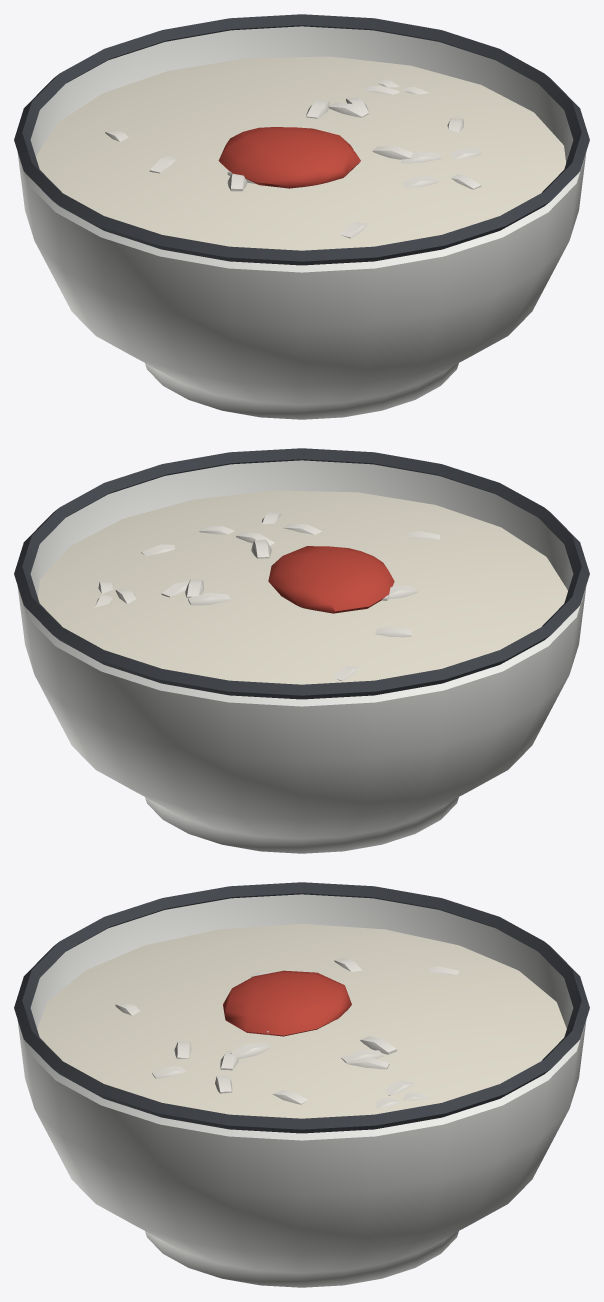
File: cook_rice_pudding.glb
The picture shows the model from 3 angles, top to bottom: view 1: azimuth 30°, elevation 25°; view 2: azimuth 150°, elevation 25°; view 3: azimuth 270°, elevation 25°; orthographic projection.
Parts seen in each view (by area): view 1: body; view 2: body; view 3: body.
Part boxes in pixels (box(x1,y1,x2,y2)): body: box(14, 14, 589, 419); body: box(14, 448, 589, 853); body: box(14, 882, 589, 1287).
Size of the model in its own units: 0.0628 by 0.0271 by 0.0628.
